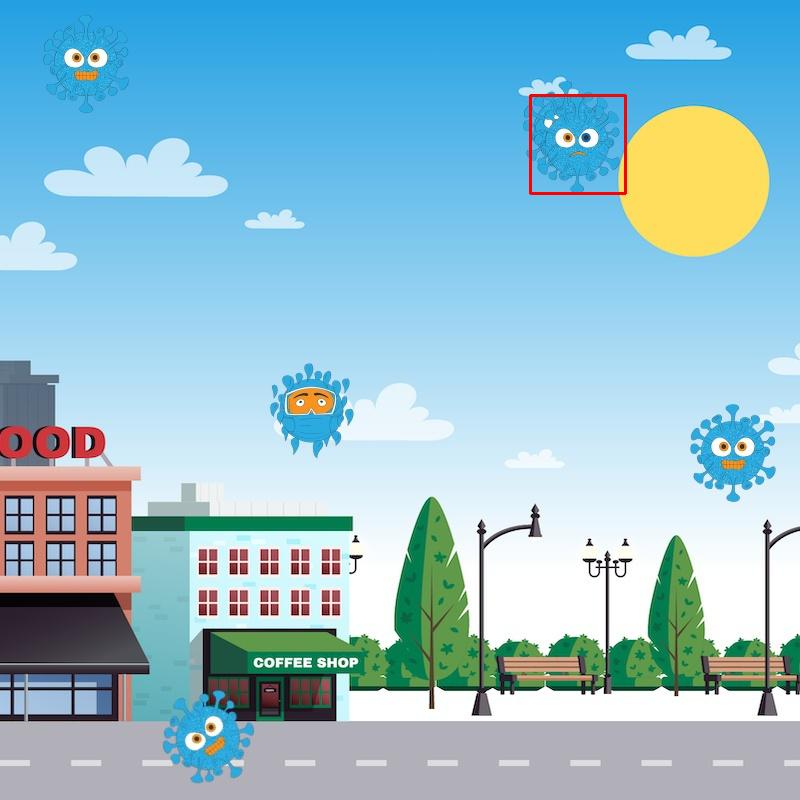corona1: (37, 15, 131, 119), (684, 403, 776, 507), (161, 690, 254, 783)
corona2: (532, 96, 627, 194)
doctor: (264, 360, 359, 459)
